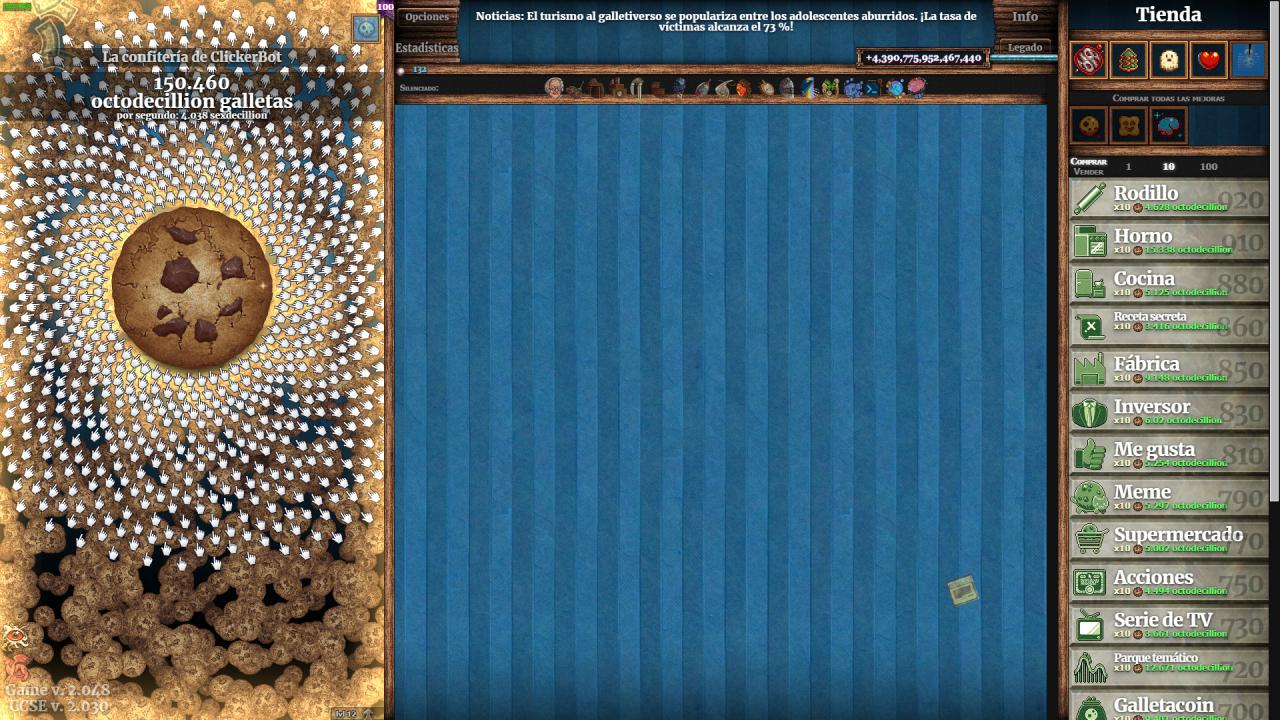GoldenCartridge: (946, 572, 981, 608)
